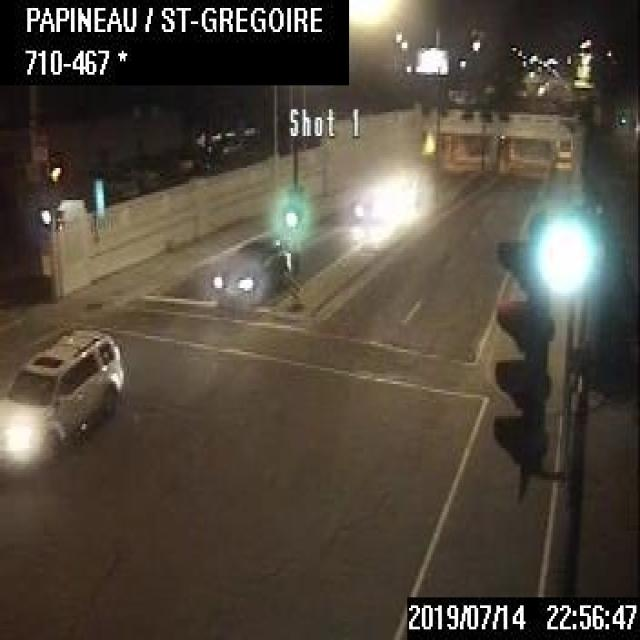vehicle: (0, 325, 125, 479), (209, 234, 293, 298), (347, 192, 384, 221)
